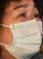with_mask: (1, 1, 43, 59)
